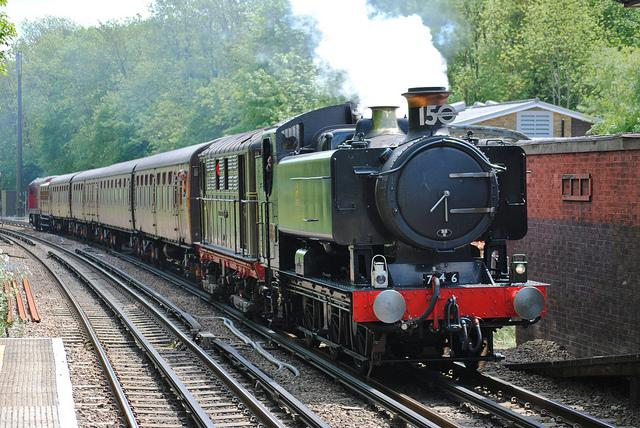Train: (24, 78, 554, 390)
